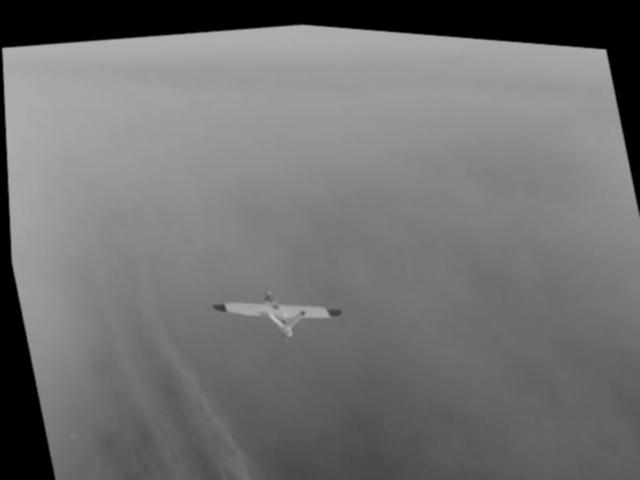hedef: (178, 246, 366, 381)
